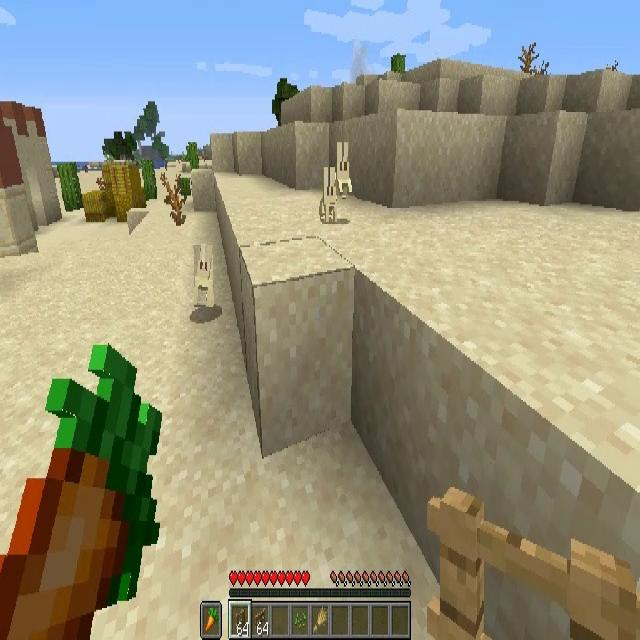rabbit: (194, 245, 213, 308), (332, 141, 352, 195), (320, 170, 336, 222)
